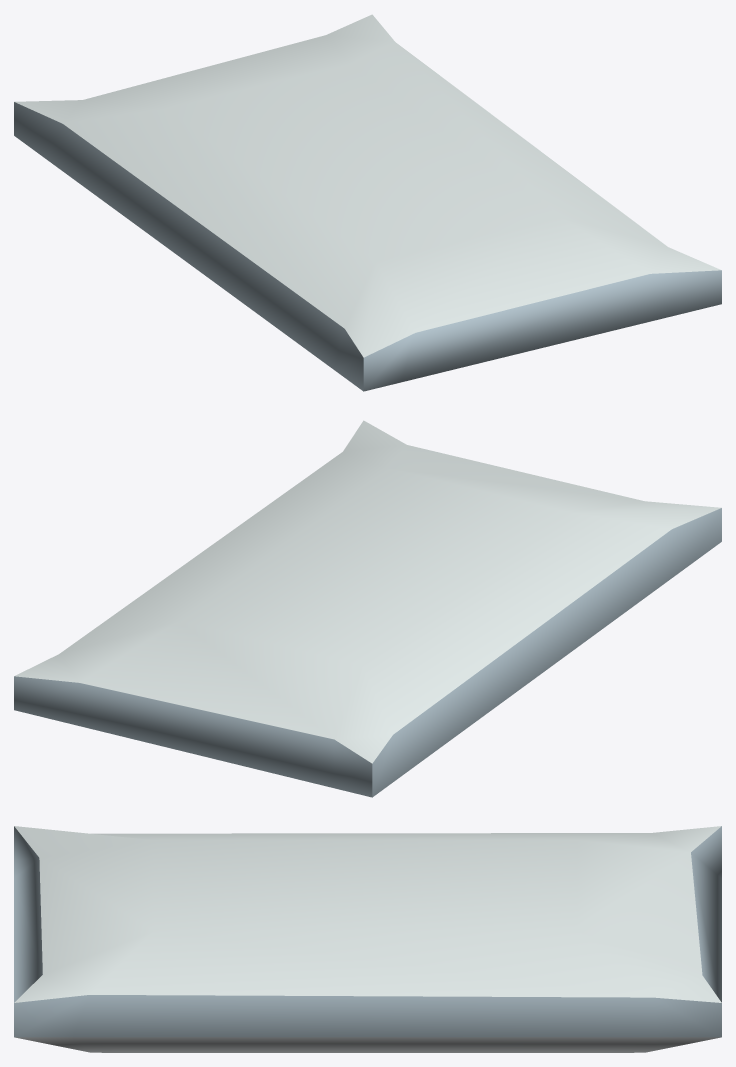
Rendered from pillow.fbx.
The picture shows the model from 3 angles, top to bottom: view 1: azimuth 30°, elevation 25°; view 2: azimuth 150°, elevation 25°; view 3: azimuth 270°, elevation 25°; orthographic projection.
Parts seen in each view (by area): view 1: pCube3; view 2: pCube3; view 3: pCube3.
Part boxes in pixels (left/top/right/bottom): pCube3: left=14, top=14, right=721, bottom=391; pCube3: left=14, top=420, right=721, bottom=797; pCube3: left=14, top=826, right=721, bottom=1052.
Size of the model in its own units: 0.9307 by 0.2789 by 1.57.
